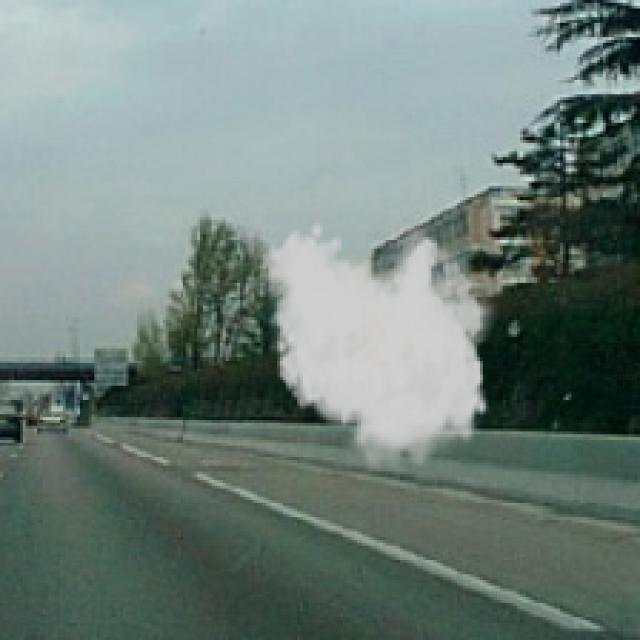smoke: (263, 220, 503, 477)
